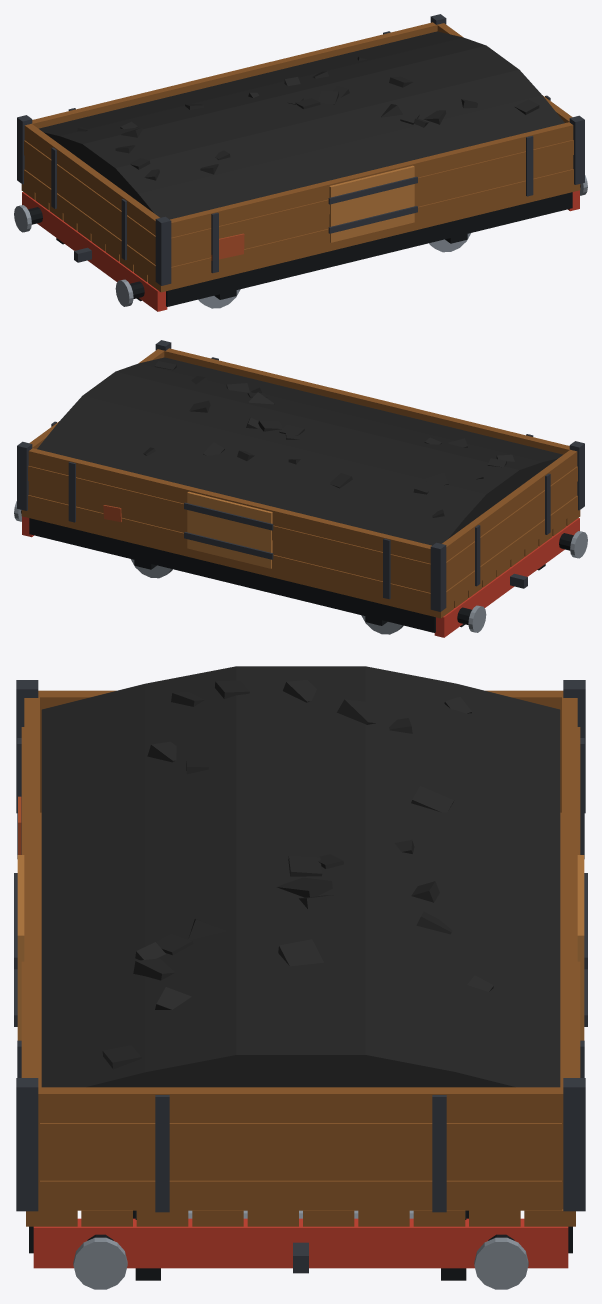
The model's file is WagonOpenCoal_atlas.fbx.
The picture shows the model from 3 angles, top to bottom: view 1: azimuth 30°, elevation 25°; view 2: azimuth 150°, elevation 25°; view 3: azimuth 270°, elevation 25°; orthographic projection. The views are drawn at different scales.
Parts seen in each view (by area): view 1: WagonOpenCoal_Heap_Load_01, WagonOpenCoal_Side_Timber_01, WagonOpenCoal_End_Timber_01, WagonOpenCoal_Solebar_Chassis_01, WagonOpenCoal_Deck_Timber_01, WagonOpenCoal_Side_Timber_02, WagonOpenCoal_Door_Door_01, WagonOpenCoal_Lump_Load_01, WagonOpenCoal_BufferBeam_Buffer_01, WagonOpenCoal_DoorStrap_Iron_01, WagonOpenCoal_CornerPost_Iron_01, WagonOpenCoal_Strap_Iron_01 (+6 smaller); view 2: WagonOpenCoal_Heap_Load_01, WagonOpenCoal_Side_Timber_02, WagonOpenCoal_End_Timber_01, WagonOpenCoal_Solebar_Chassis_02, WagonOpenCoal_Deck_Timber_01, WagonOpenCoal_Side_Timber_01, WagonOpenCoal_Door_Door_02, WagonOpenCoal_Lump_Load_01, WagonOpenCoal_BufferBeam_Buffer_01, WagonOpenCoal_DoorStrap_Iron_02, WagonOpenCoal_CornerPost_Iron_03, WagonOpenCoal_Strap_Iron_02 (+5 smaller); view 3: WagonOpenCoal_Heap_Load_01, WagonOpenCoal_End_Timber_02, WagonOpenCoal_BufferBeam_Buffer_02, WagonOpenCoal_Lump_Load_01, WagonOpenCoal_Deck_Timber_01, WagonOpenCoal_Side_Timber_01, WagonOpenCoal_Side_Timber_02, WagonOpenCoal_EndStrap_Iron_02, WagonOpenCoal_CornerPost_Iron_04, WagonOpenCoal_CornerPost_Iron_02, WagonOpenCoal_BufferHead_Steel_03, WagonOpenCoal_BufferHead_Steel_04 (+5 smaller).
Part boxes in pixels (x1=…): WagonOpenCoal_Heap_Load_01: x1=39, y1=31, x2=564, y2=219; WagonOpenCoal_Side_Timber_01: x1=170, y1=122, x2=573, y2=282; WagonOpenCoal_End_Timber_01: x1=24, y1=124, x2=159, y2=280; WagonOpenCoal_Solebar_Chassis_01: x1=166, y1=192, x2=572, y2=306; WagonOpenCoal_Deck_Timber_01: x1=21, y1=184, x2=580, y2=292; WagonOpenCoal_Side_Timber_02: x1=24, y1=22, x2=443, y2=169; WagonOpenCoal_Door_Door_01: x1=329, y1=165, x2=414, y2=242; WagonOpenCoal_Lump_Load_01: x1=77, y1=56, x2=539, y2=180; WagonOpenCoal_BufferBeam_Buffer_01: x1=22, y1=192, x2=167, y2=311; WagonOpenCoal_DoorStrap_Iron_01: x1=328, y1=176, x2=417, y2=233; WagonOpenCoal_CornerPost_Iron_01: x1=155, y1=216, x2=171, y2=285; WagonOpenCoal_Strap_Iron_01: x1=211, y1=136, x2=533, y2=273; WagonOpenCoal_Heap_Load_01: x1=37, y1=357, x2=562, y2=545; WagonOpenCoal_Side_Timber_02: x1=28, y1=448, x2=431, y2=608; WagonOpenCoal_End_Timber_01: x1=442, y1=450, x2=577, y2=606; WagonOpenCoal_Solebar_Chassis_02: x1=29, y1=518, x2=435, y2=632; WagonOpenCoal_Deck_Timber_01: x1=21, y1=510, x2=580, y2=618; WagonOpenCoal_Side_Timber_01: x1=158, y1=348, x2=577, y2=495; WagonOpenCoal_Door_Door_02: x1=187, y1=491, x2=272, y2=568; WagonOpenCoal_Lump_Load_01: x1=143, y1=361, x2=514, y2=517; WagonOpenCoal_BufferBeam_Buffer_01: x1=434, y1=518, x2=579, y2=637; WagonOpenCoal_DoorStrap_Iron_02: x1=184, y1=502, x2=273, y2=559; WagonOpenCoal_CornerPost_Iron_03: x1=430, y1=542, x2=446, y2=611; WagonOpenCoal_Strap_Iron_02: x1=68, y1=462, x2=390, y2=599; WagonOpenCoal_Heap_Load_01: x1=41, y1=666, x2=560, y2=1087; WagonOpenCoal_End_Timber_02: x1=40, y1=1087, x2=561, y2=1210; WagonOpenCoal_BufferBeam_Buffer_02: x1=33, y1=1218, x2=568, y2=1268; WagonOpenCoal_Lump_Load_01: x1=102, y1=680, x2=493, y2=1069; WagonOpenCoal_Deck_Timber_01: x1=26, y1=812, x2=575, y2=1226; WagonOpenCoal_Side_Timber_01: x1=21, y1=690, x2=39, y2=1209; WagonOpenCoal_Side_Timber_02: x1=562, y1=690, x2=580, y2=1209; WagonOpenCoal_EndStrap_Iron_02: x1=155, y1=1095, x2=446, y2=1212; WagonOpenCoal_CornerPost_Iron_04: x1=563, y1=1078, x2=585, y2=1211; WagonOpenCoal_CornerPost_Iron_02: x1=16, y1=1078, x2=38, y2=1211; WagonOpenCoal_BufferHead_Steel_03: x1=73, y1=1237, x2=127, y2=1289; WagonOpenCoal_BufferHead_Steel_04: x1=474, y1=1237, x2=528, y2=1289.
Size of what is drawn, in the model's own units: 32.8 by 10.54 by 18.04.
1 material, 1 textured.
